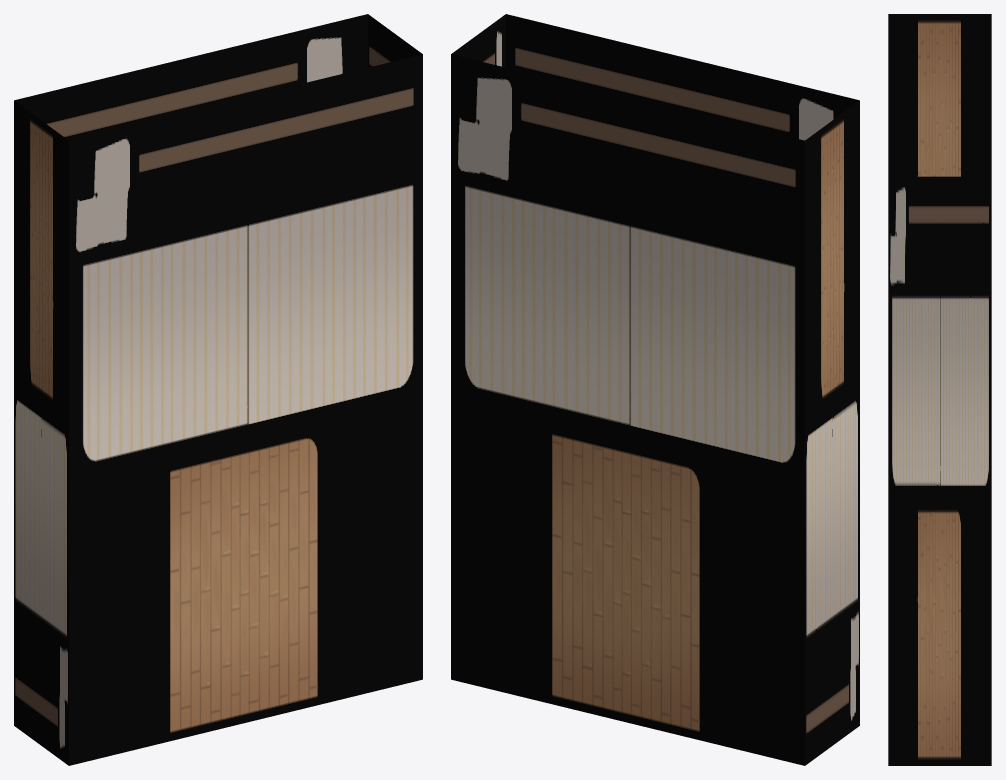
The model's file is RWall.fbx.
3 views of the same model, side by side, from view 1: azimuth 30°, elevation 25°; view 2: azimuth 150°, elevation 25°; view 3: azimuth 270°, elevation 25° (orthographic). The views are drawn at different scales.
Visible parts, largest first — view 1: Cube.037; view 2: Cube.037; view 3: Cube.037.
Boxes of the visible parts, left/top/right/bottom form: Cube.037: left=14, top=14, right=422, bottom=765; Cube.037: left=451, top=14, right=859, bottom=765; Cube.037: left=888, top=14, right=991, bottom=765.
Bounding box in the file's own units: 232 × 391 × 62.38.
